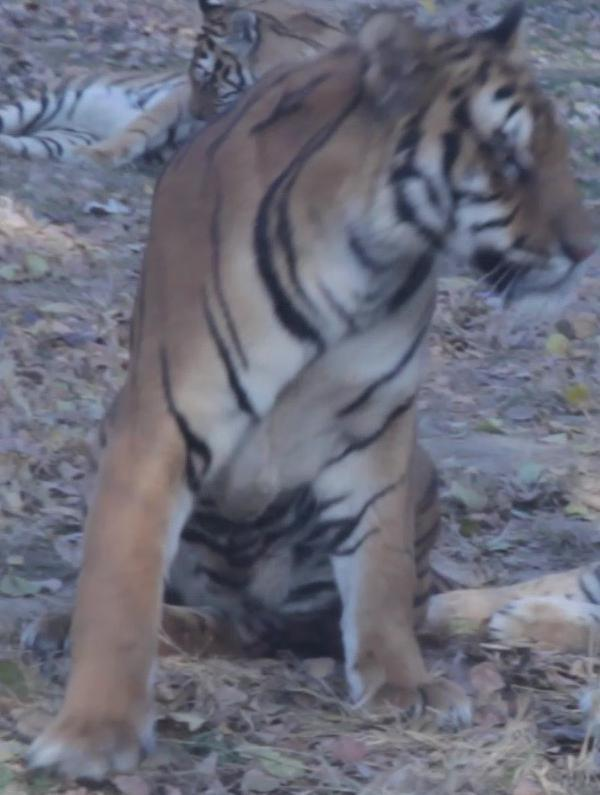tiger: (29, 3, 592, 779)
